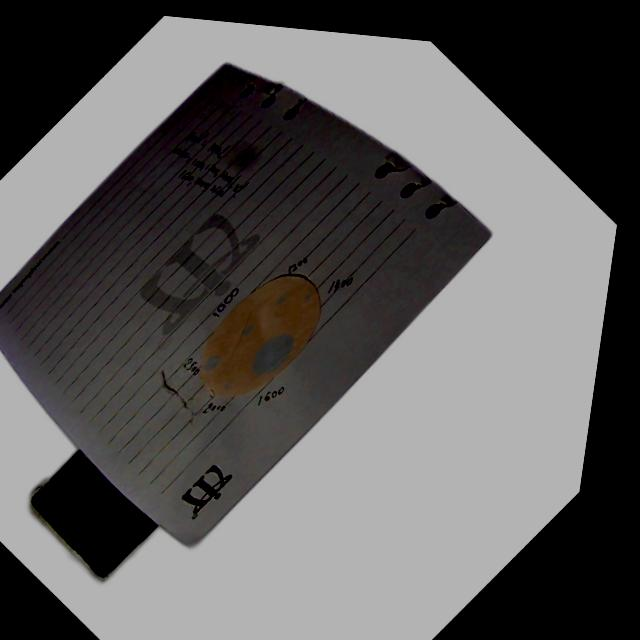BlueColor: (252, 333, 294, 376), (202, 355, 220, 371), (241, 323, 255, 336), (275, 295, 288, 305), (224, 381, 233, 390), (303, 292, 311, 301)
